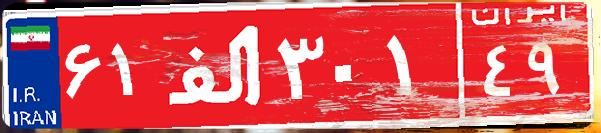0: (330, 28, 385, 110)
1: (385, 28, 445, 110), (110, 28, 158, 105)
3: (273, 28, 330, 110)
4: (475, 38, 525, 113)
6: (57, 26, 110, 107)
9: (525, 38, 570, 115)
الف: (158, 15, 273, 115)
